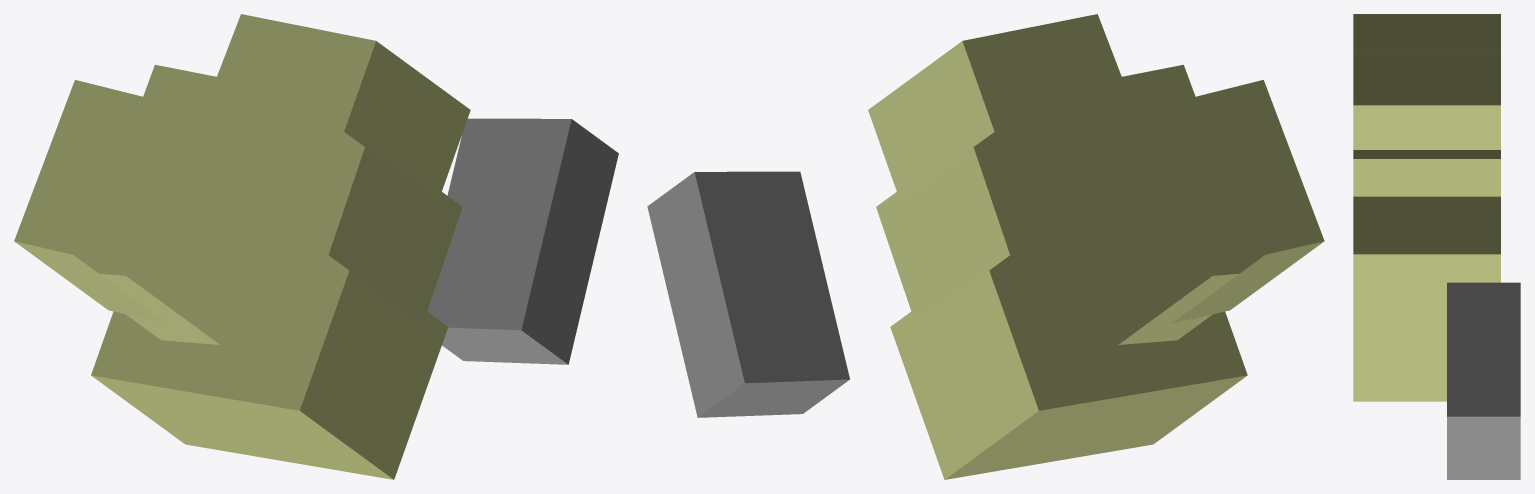
The picture shows the model from 3 angles, left to right: view 1: azimuth 30°, elevation 25°; view 2: azimuth 150°, elevation 25°; view 3: azimuth 270°, elevation 25°; orthographic projection. The views are drawn at different scales.
Visible parts, largest first — view 1: 0_1_1_3_3_0_2_1_1_1; view 2: 0_1_1_3_3_0_2_1_1_1; view 3: 0_1_1_3_3_0_2_1_1_1.
Part boxes in pixels (x1=…): 0_1_1_3_3_0_2_1_1_1: x1=14, y1=14, x2=618, y2=479; 0_1_1_3_3_0_2_1_1_1: x1=647, y1=14, x2=1324, y2=479; 0_1_1_3_3_0_2_1_1_1: x1=1353, y1=14, x2=1520, y2=479.
Size of the model in its own units: 20.92 by 14.41 by 6.8.
